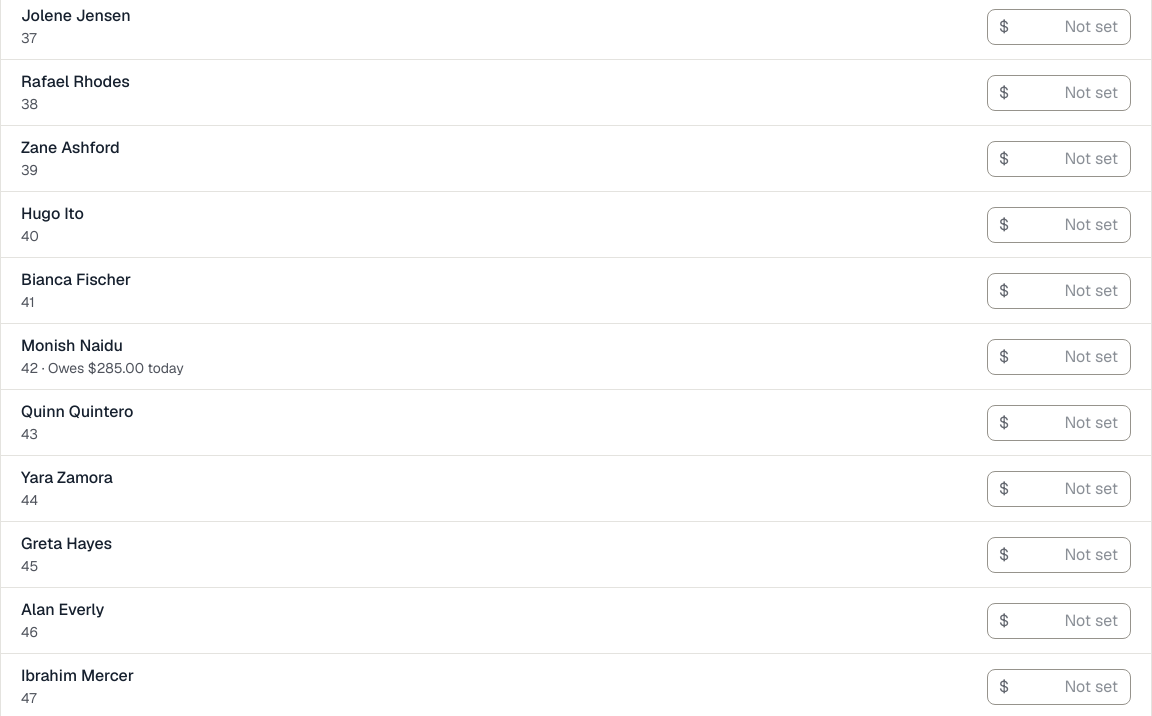
Test: opening balances › saves the one home that was changed and leaves every other statement alone
(page scrolled)
Type "1240.50" into the field labelled "$" in the row of "· Owes $285.00 today" at x=1059, y=357, box [987,339,1131,375]
(page scrolled)
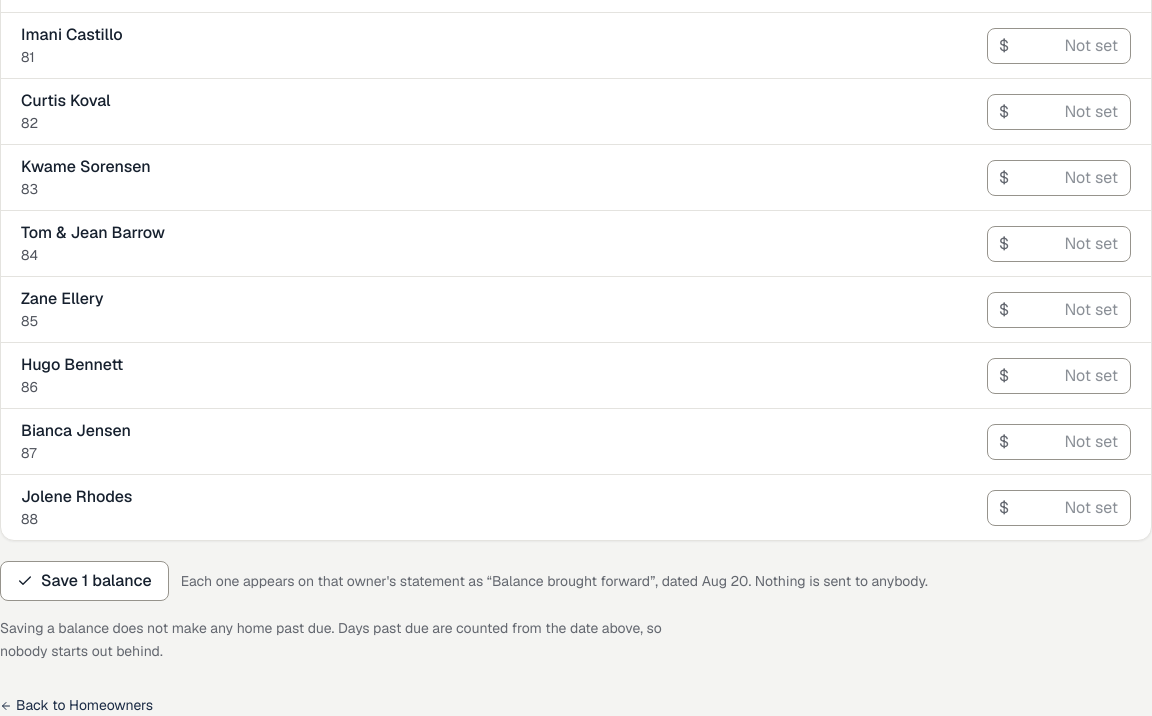
Click the button "Save 1 balance" at x=84, y=581, box [0,561,169,601]
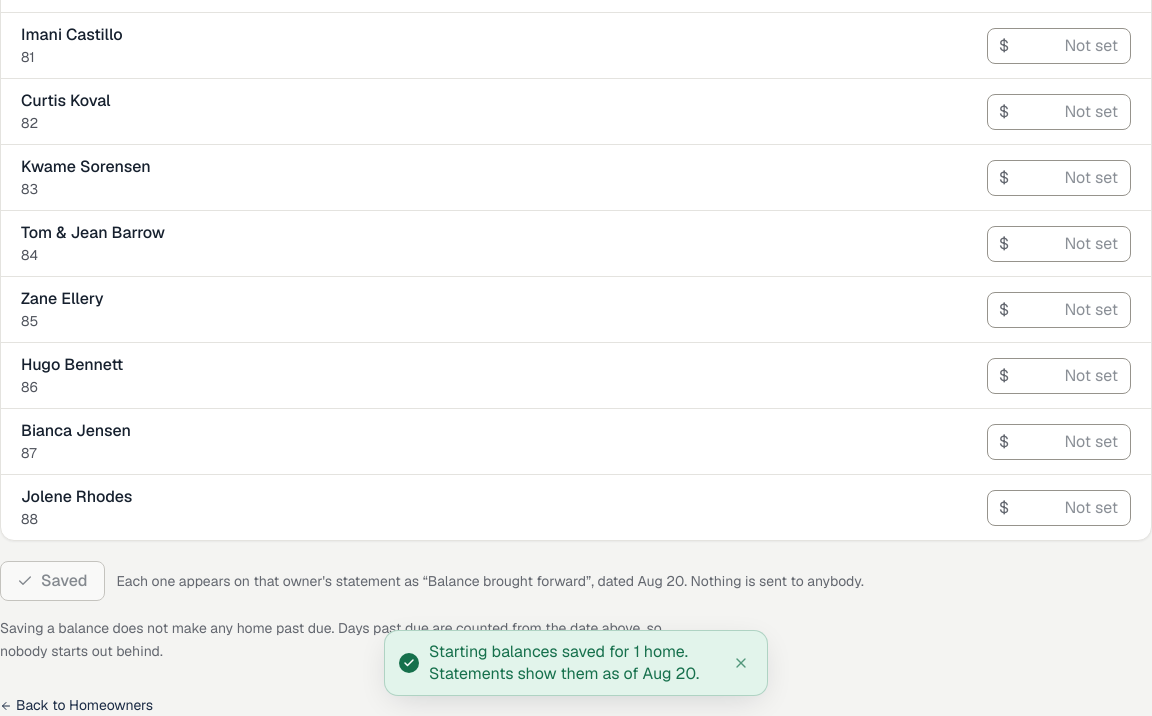
expect the text "Starting balances saved for 1 home." is shown: met, box [429,641,699,684]
